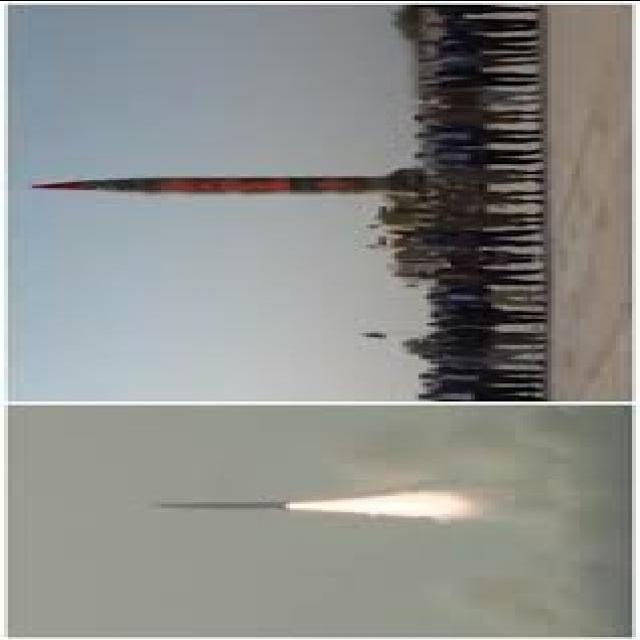missile: (33, 166, 429, 198), (156, 493, 301, 516)
